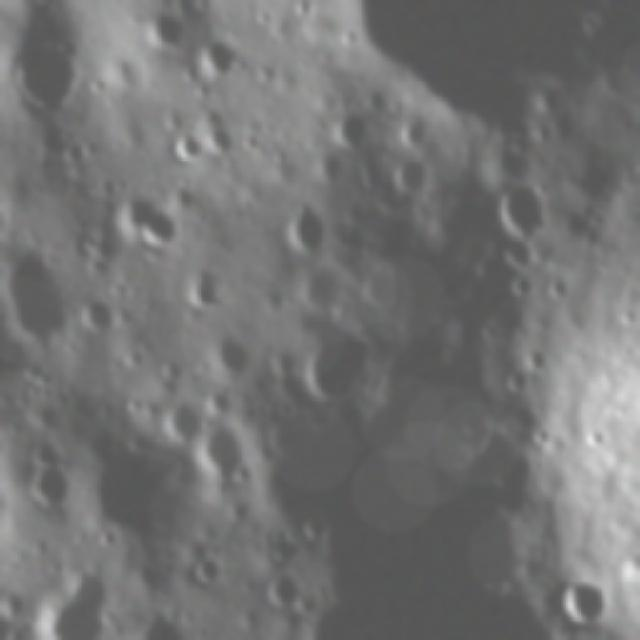crater: (337, 0, 640, 128), (0, 243, 83, 346), (29, 563, 129, 640), (5, 34, 87, 120), (482, 175, 558, 256), (301, 328, 374, 406), (124, 186, 190, 266), (138, 6, 204, 69), (193, 414, 252, 484), (555, 568, 616, 630), (21, 463, 84, 522), (198, 332, 262, 382), (151, 389, 207, 445), (298, 262, 353, 315), (320, 106, 378, 156), (190, 35, 247, 83), (289, 197, 337, 254), (265, 563, 309, 615), (184, 262, 227, 313), (391, 154, 435, 203), (189, 547, 237, 591), (268, 525, 309, 572), (397, 111, 440, 154), (82, 290, 122, 336), (202, 118, 242, 162), (163, 125, 208, 163), (497, 232, 540, 271), (263, 341, 300, 382), (28, 434, 68, 469), (524, 341, 559, 376), (0, 194, 20, 246), (503, 364, 535, 394), (618, 545, 640, 587), (0, 410, 14, 465), (0, 446, 6, 549), (8, 0, 78, 6), (0, 252, 9, 286)
